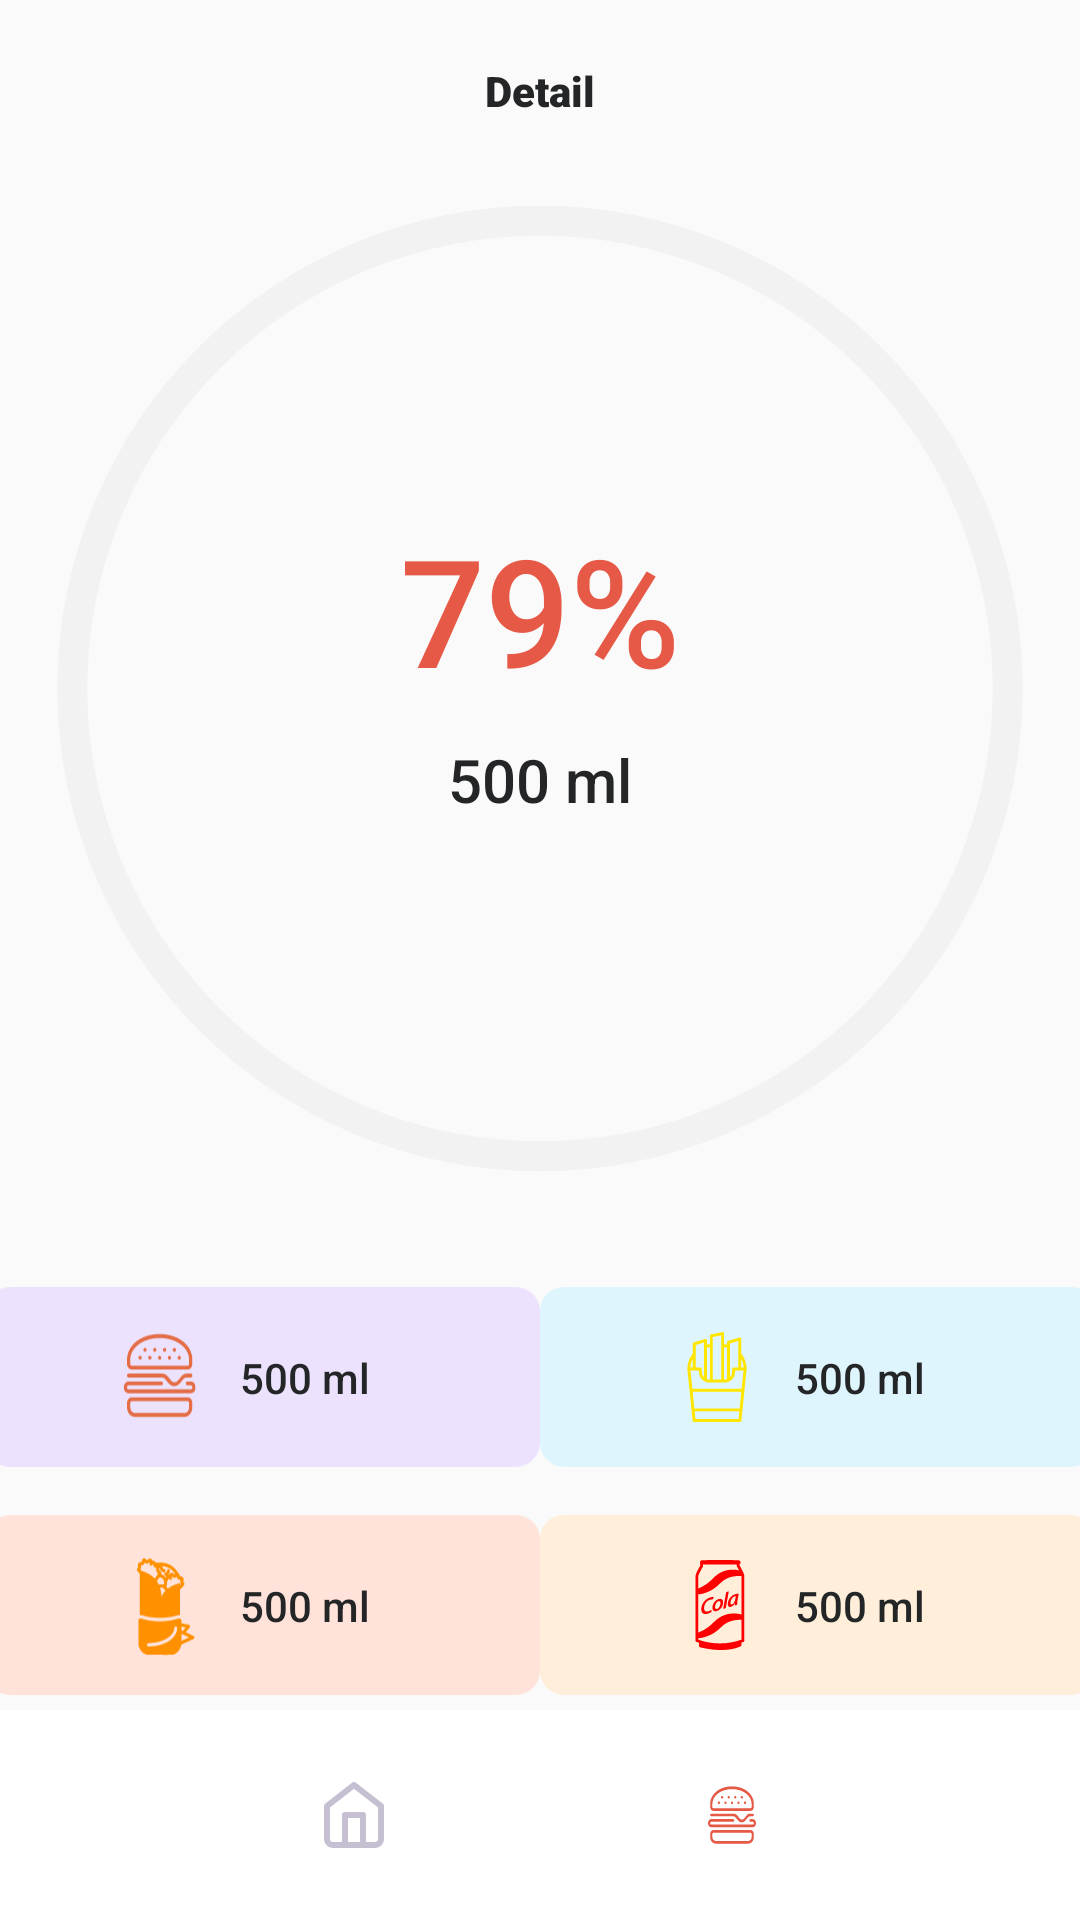

Icons on this 1080px×1920px Android screen, each with the point to tap as point (x, y):
food statistics true: point (732, 1815)
home false: point (354, 1815)
